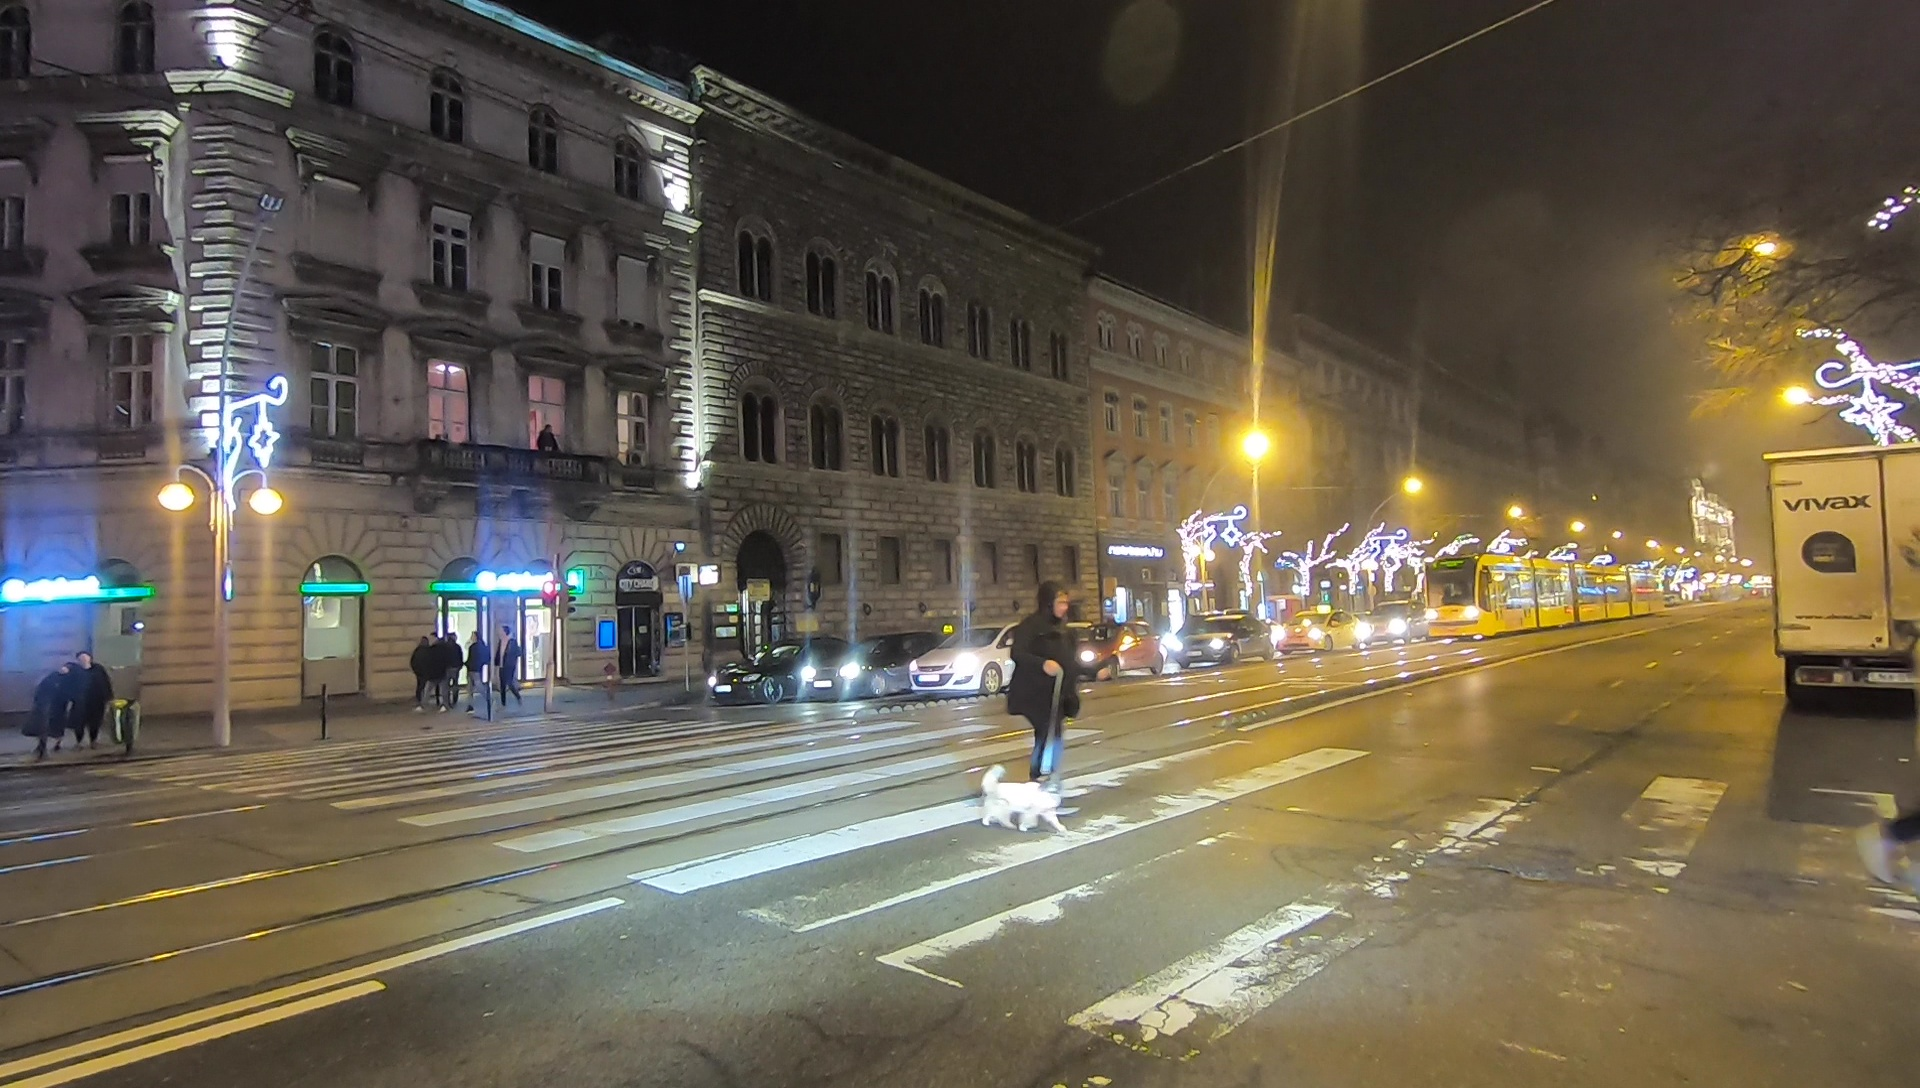person: (1017, 578, 1086, 811), (73, 650, 112, 743), (38, 665, 71, 754), (499, 626, 526, 706), (410, 636, 436, 715), (465, 636, 491, 708), (443, 628, 462, 699)
